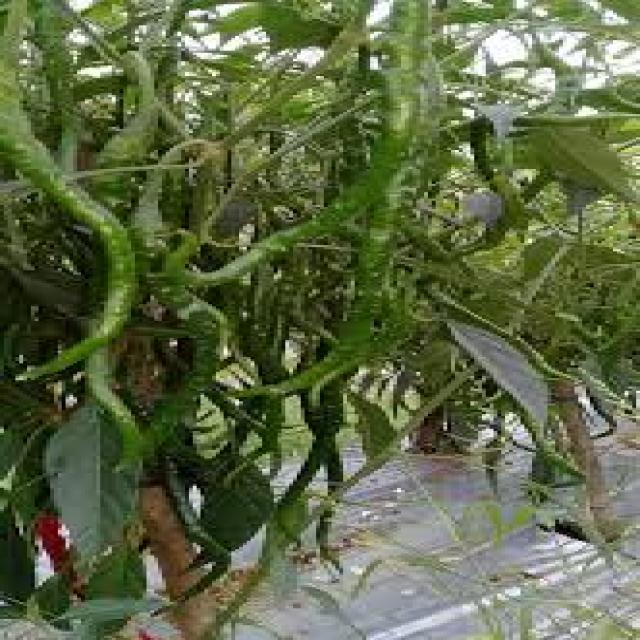sehat: (21, 406, 166, 572), (435, 317, 567, 457)
